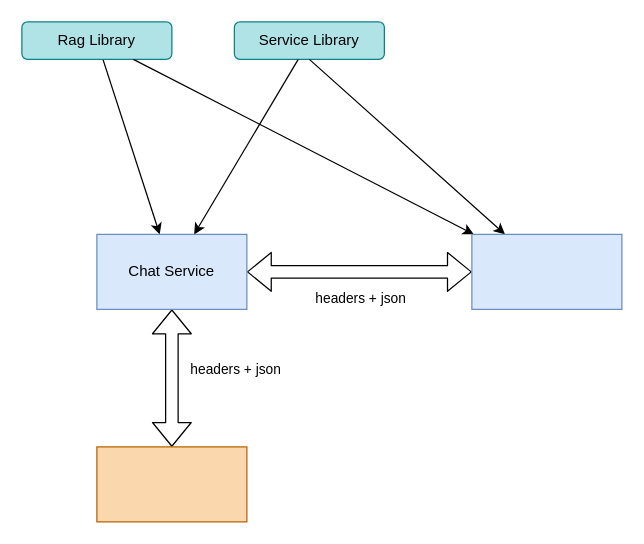
The diagram is 644 pixels wide and 544 high, and some of its shapes have lost their labels. Each missing label, with the centre of its shape:
"Chat UI" belongs at [171,484].
"LLM Gateway" belongs at [546,271].
